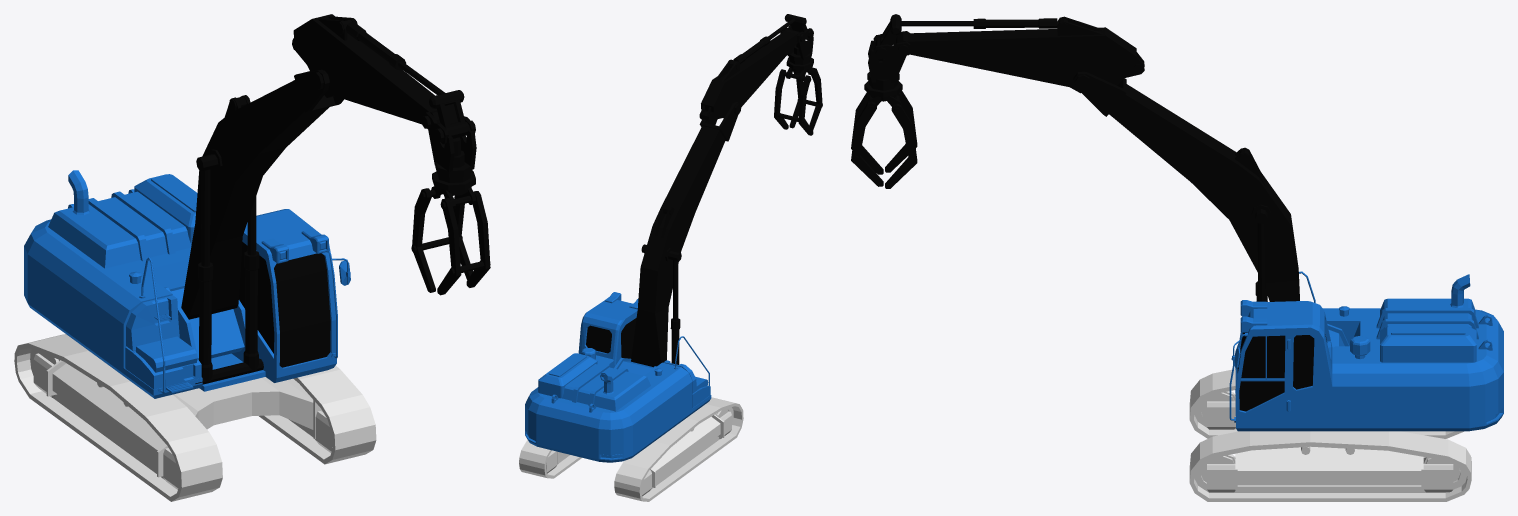
The model's file is SM_escalator.fbx.
3 renders of one model, left to right at view 1: azimuth 30°, elevation 25°; view 2: azimuth 150°, elevation 25°; view 3: azimuth 270°, elevation 25°, orthographic. The views are drawn at different scales.
Visible parts, largest first — view 1: Cube_23, Cylinder_16, Cylinder_12, Cylinder_20, Cylinder_15, Cylinder_12_2, Cylinder_15_3, Cylinder_12_3, Cylinder_19, Cylinder_16_2; view 2: Cube_23, Cylinder_12, Cylinder_16, Cylinder_20, Cylinder_12_3, Cylinder_12_2, Cylinder_15_3, Cylinder_16_2, Cylinder_15, Cylinder_19; view 3: Cube_23, Cylinder_16, Cylinder_12, Cylinder_20, Cylinder_12_2, Cylinder_12_3, Cylinder_15_3, Cylinder_16_2.
Part boxes in pixels (x1=…): Cube_23: x1=24, y1=170, x2=350, y2=398; Cylinder_16: x1=14, y1=334, x2=376, y2=501; Cylinder_12: x1=181, y1=69, x2=343, y2=319; Cylinder_20: x1=292, y1=14, x2=440, y2=124; Cylinder_15: x1=195, y1=251, x2=263, y2=384; Cylinder_12_2: x1=421, y1=90, x2=476, y2=175; Cylinder_15_3: x1=437, y1=191, x2=490, y2=295; Cylinder_12_3: x1=411, y1=187, x2=472, y2=292; Cylinder_19: x1=201, y1=169, x2=256, y2=266; Cylinder_16_2: x1=431, y1=162, x2=476, y2=209; Cube_23: x1=525, y1=292, x2=711, y2=462; Cylinder_12: x1=631, y1=101, x2=738, y2=367; Cylinder_16: x1=519, y1=397, x2=743, y2=501; Cylinder_20: x1=699, y1=29, x2=799, y2=121; Cylinder_12_3: x1=774, y1=69, x2=813, y2=135; Cylinder_12_2: x1=780, y1=14, x2=813, y2=59; Cylinder_15_3: x1=789, y1=67, x2=822, y2=130; Cylinder_16_2: x1=786, y1=52, x2=813, y2=81; Cylinder_15: x1=670, y1=318, x2=680, y2=364; Cylinder_19: x1=644, y1=253, x2=678, y2=320; Cube_23: x1=1229, y1=271, x2=1503, y2=431; Cylinder_16: x1=1189, y1=369, x2=1471, y2=501; Cylinder_12: x1=1073, y1=72, x2=1299, y2=301; Cylinder_20: x1=896, y1=16, x2=1144, y2=93; Cylinder_12_2: x1=868, y1=14, x2=911, y2=82; Cylinder_12_3: x1=885, y1=90, x2=917, y2=188; Cylinder_15_3: x1=851, y1=92, x2=883, y2=186; Cylinder_16_2: x1=864, y1=72, x2=902, y2=106.
Bounding box in the file's own units: 345 × 876 × 1176.
